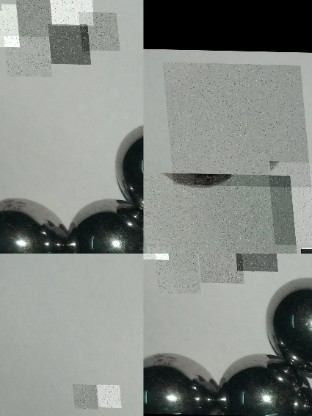ironball: (161, 61, 307, 186), (143, 171, 296, 253), (219, 346, 310, 413), (145, 348, 220, 414), (71, 191, 145, 253), (264, 278, 310, 369), (264, 161, 311, 244), (0, 194, 66, 250), (115, 121, 140, 211), (1, 35, 48, 76), (150, 253, 196, 293), (45, 23, 87, 63), (76, 11, 117, 50), (13, 0, 53, 36), (193, 253, 239, 282), (46, 0, 92, 24), (230, 253, 274, 271), (0, 2, 16, 46), (68, 383, 93, 408), (92, 383, 117, 406)
